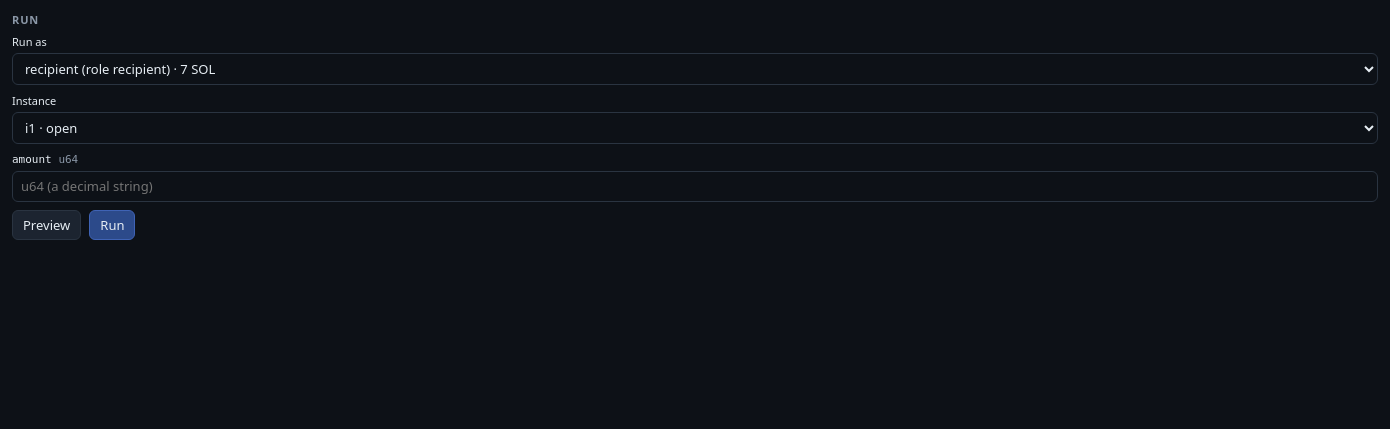
Test case: RunStepForm › drops the preview when the args change, so a stale one is never signed
Check: the dropdown with test id "run-as" shows "recipient (role recipient) · 7 SOL", box [12,53,1378,85]
In the field with placeholder "u64 (a decimal string)": (695, 186) [12,171,1378,202], type "1000"
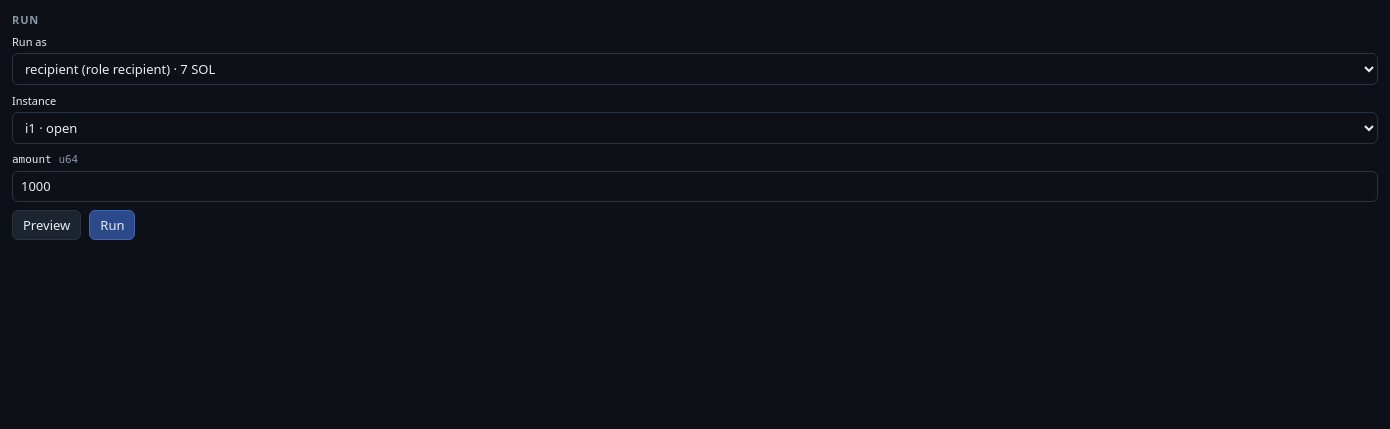
Click the button with test id "preview-button": (47, 225) [12,210,81,240]
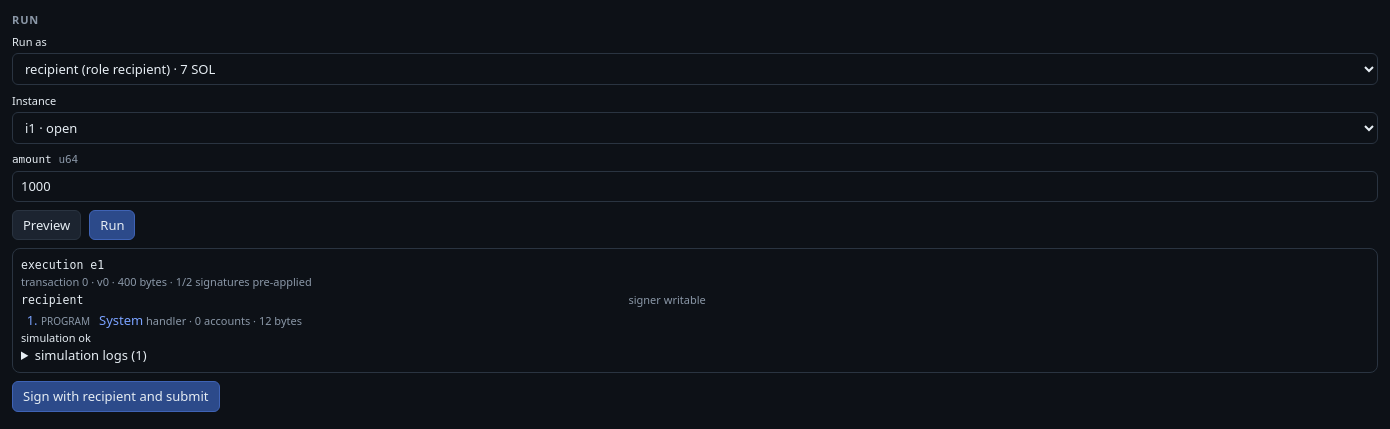
Check: the element with test id "preview" is shown, box [12,248,1378,373]
Replace the text in the field with placeholder "u64 (a decimal string)" with "2000": (695, 186) [12,171,1378,202]
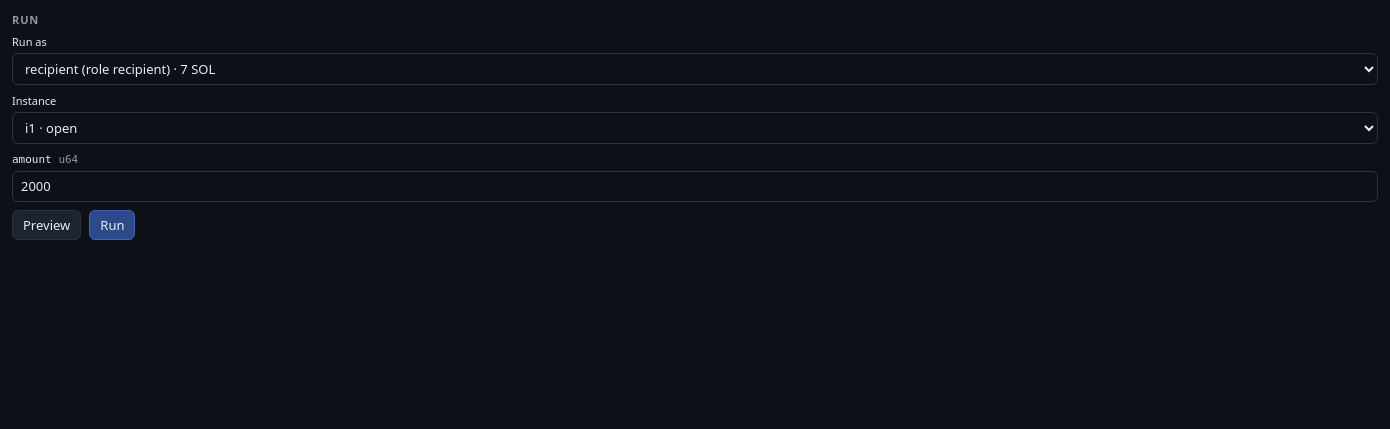
Check: the element with test id "preview" is gone
Check: the button with test id "submit-button" is gone
